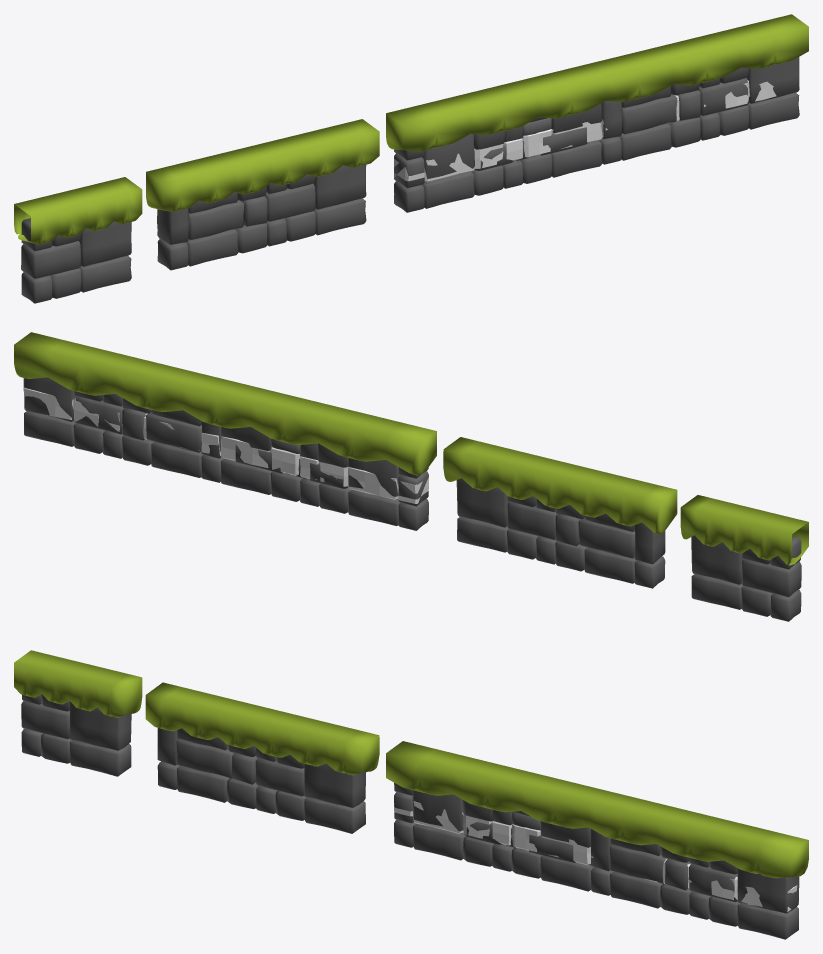
The model's file is Ground4smallest.fbx.
The picture shows the model from 3 angles, top to bottom: view 1: azimuth 30°, elevation 25°; view 2: azimuth 150°, elevation 25°; view 3: azimuth 330°, elevation 25°; orthographic projection.
Parts seen in each view (by area): view 1: tasDuvar, grassGround, tasDuvar.001, grassGround.001, tasDuvar.002, grassGround.002, Cube.019; view 2: tasDuvar, grassGround, tasDuvar.001, grassGround.001, tasDuvar.002, grassGround.002, Cube.018, Cube.021, Cube.019, Cube.012; view 3: tasDuvar, grassGround, tasDuvar.001, grassGround.001, tasDuvar.002, grassGround.002, Cube.019.
Boxes of the visible parts, x1,y1,x2,y2 form: tasDuvar: [394, 57, 799, 212]; grassGround: [386, 14, 808, 151]; tasDuvar.001: [157, 165, 366, 270]; grassGround.001: [146, 119, 379, 211]; tasDuvar.002: [21, 218, 131, 303]; grassGround.002: [14, 177, 142, 244]; Cube.019: [522, 129, 551, 157]; tasDuvar: [23, 377, 428, 530]; grassGround: [14, 332, 436, 475]; tasDuvar.001: [456, 478, 665, 588]; grassGround.001: [443, 437, 677, 534]; tasDuvar.002: [691, 535, 801, 621]; grassGround.002: [680, 495, 808, 565]; Cube.018: [221, 436, 270, 467]; Cube.021: [348, 467, 398, 500]; Cube.019: [271, 446, 300, 475]; Cube.012: [24, 387, 73, 419]; tasDuvar: [394, 783, 799, 939]; grassGround: [386, 741, 808, 878]; tasDuvar.001: [157, 728, 366, 833]; grassGround.001: [145, 682, 379, 775]; tasDuvar.002: [21, 694, 131, 776]; grassGround.002: [14, 650, 142, 717]; Cube.019: [512, 824, 540, 851].
Bounding box in the file's own units: 6640 × 750 × 254.
